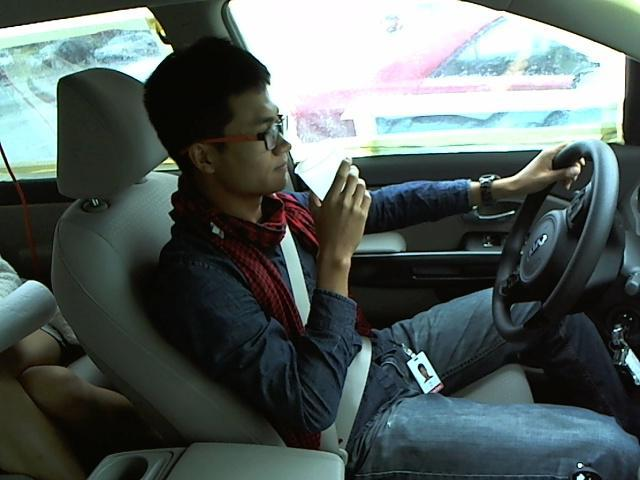Drinking: (153, 41, 372, 246)
